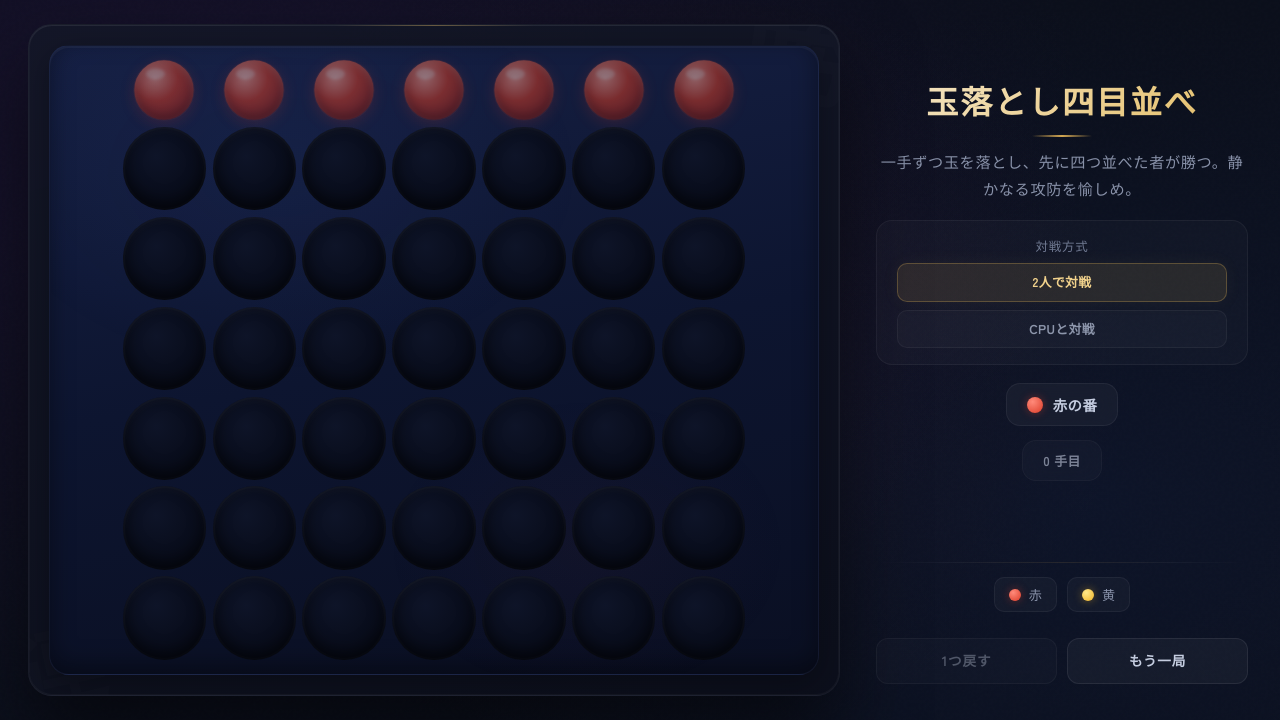
Test case: board interaction › shows the current player disc while a column is hovered
Hover over the button named "列1に玉を落とす": (164, 90) [123,60,206,120]
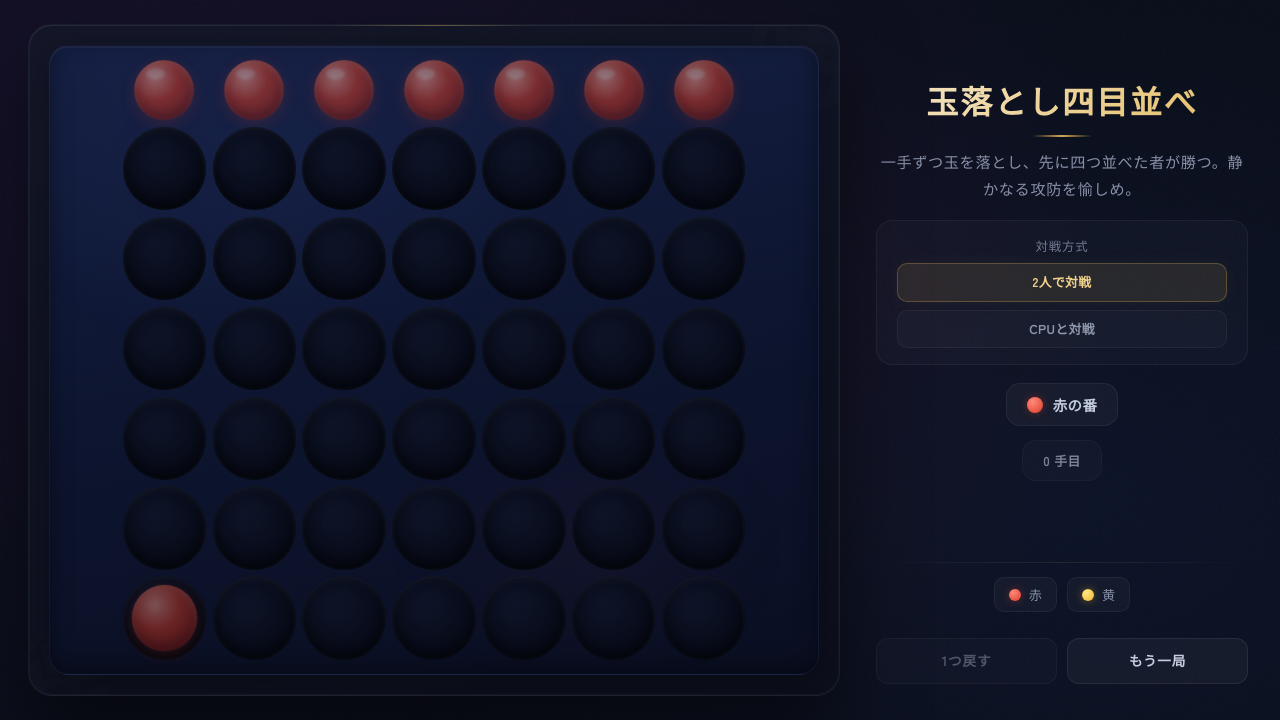
Check: the picture named "赤の玉の落下位置" is shown, box [132,585,197,651]
Click the button named "列1に玉を落とす": (164, 90) [123,60,206,120]
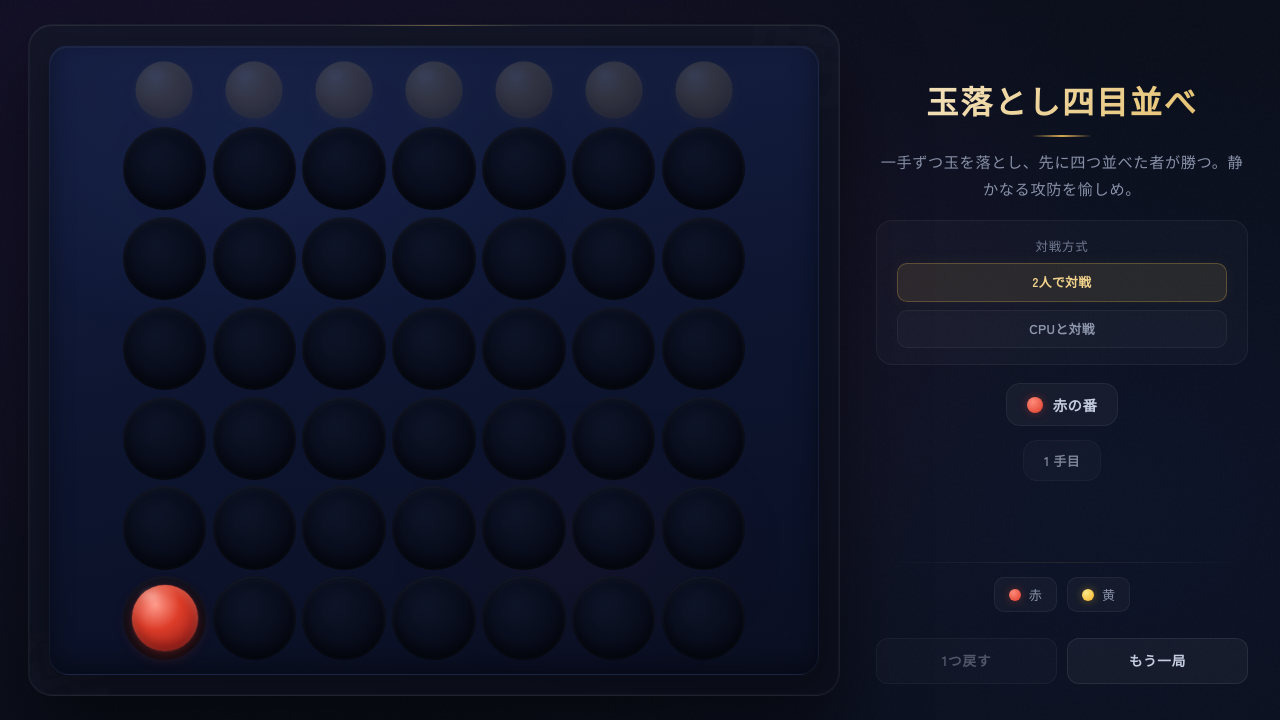
Check: the button named "列1に玉を落とす" is disabled
Click the button named "列1に玉を落とす": (164, 90) [123,60,206,120]
Wait 460 ms
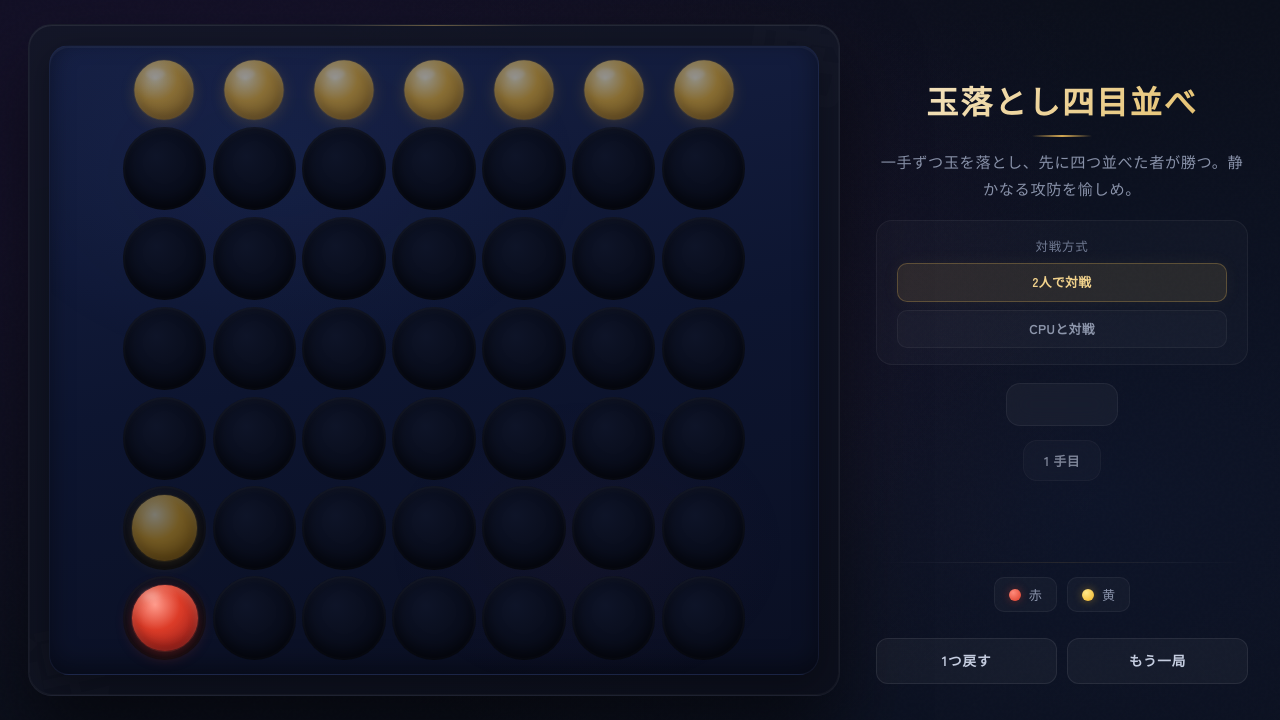
Hover over the button named "列1に玉を落とす": (164, 90) [123,60,206,120]
Check: the picture named "黄の玉の落下位置" is shown, box [132,495,197,561]
Check: the button named "列1に玉を落とす" is enabled
Move the pointer off the button named "列1に玉を落とす", box [123,60,206,120]
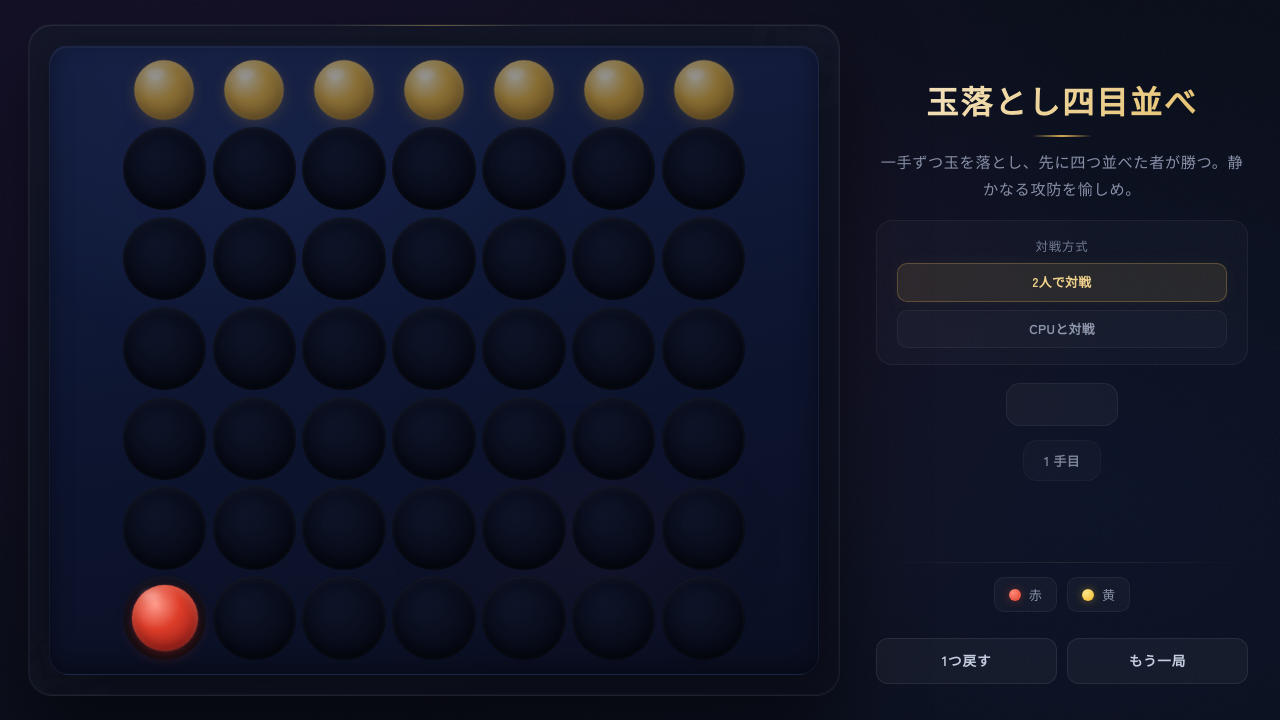
Check: the picture "黄の玉の落下位置" is gone
